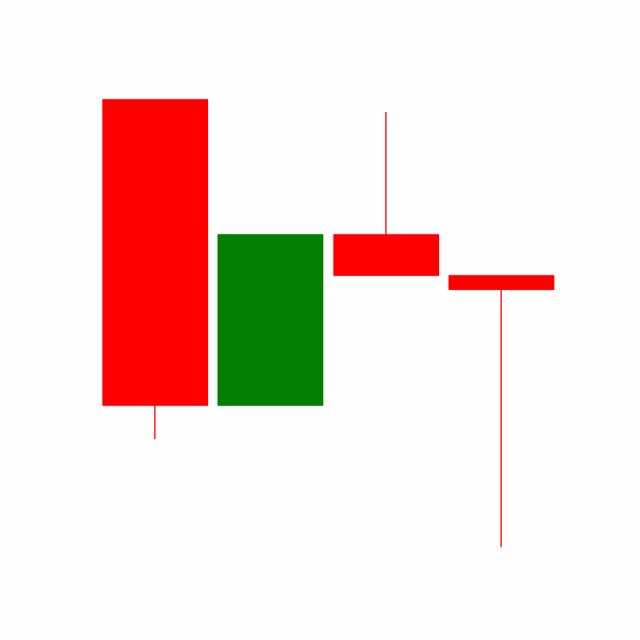Hammer: (443, 271, 559, 550)
